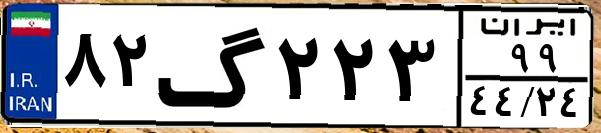2: (270, 28, 330, 110), (330, 28, 385, 110), (110, 28, 156, 98), (535, 70, 560, 125)
3: (385, 28, 445, 110)
4: (560, 70, 590, 125), (470, 70, 495, 125), (495, 70, 520, 125)
8: (57, 26, 110, 100)
9: (537, 27, 568, 80), (508, 27, 537, 80)
گ: (156, 12, 270, 120)
